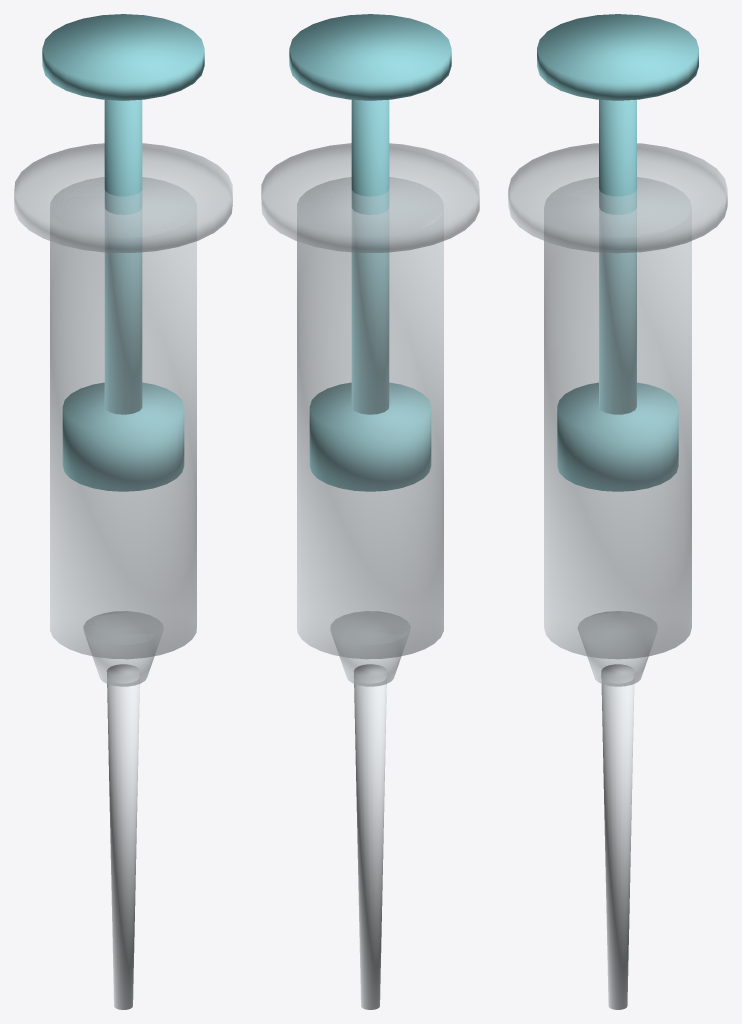
File: syringe_injector.glb
3 renders of one model, left to right at view 1: azimuth 30°, elevation 25°; view 2: azimuth 150°, elevation 25°; view 3: azimuth 270°, elevation 25°, orthographic.
Visible parts, largest first — view 1: Syringe_Barrel, Syringe_Plunger, Syringe_Needle; view 2: Syringe_Barrel, Syringe_Plunger, Syringe_Needle; view 3: Syringe_Barrel, Syringe_Plunger, Syringe_Needle.
Part boxes in pixels (x1,y1,x2,y2): Syringe_Barrel: (14,143,232,686); Syringe_Plunger: (42,14,204,491); Syringe_Needle: (107,664,139,1009); Syringe_Barrel: (261,143,479,686); Syringe_Plunger: (289,14,451,491); Syringe_Needle: (354,664,386,1009); Syringe_Barrel: (508,143,727,686); Syringe_Plunger: (537,14,698,491); Syringe_Needle: (601,664,634,1009).
Size of the model in its own units: 1.84 by 8.87 by 1.84.
